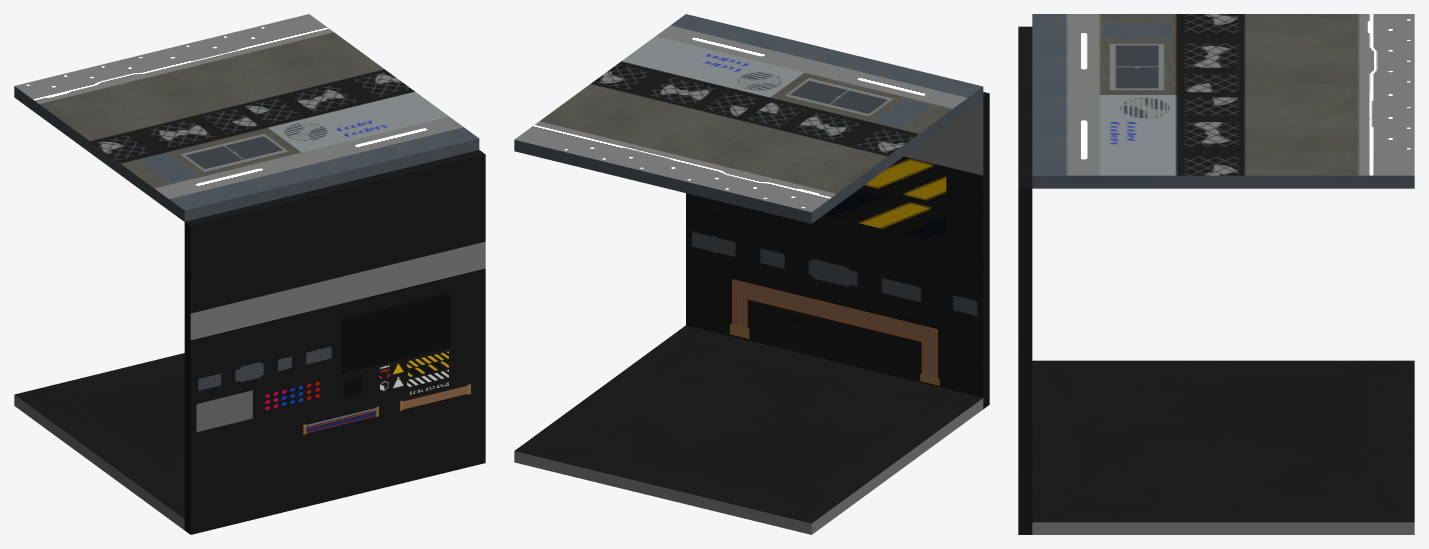
The model's file is 1 wall4.fbx.
3 views of the same model, side by side, from view 1: azimuth 30°, elevation 25°; view 2: azimuth 150°, elevation 25°; view 3: azimuth 270°, elevation 25° (orthographic). The views are drawn at different scales.
Parts seen in each view (by area): view 1: Plane.002, Plane.001, Plane; view 2: Plane.002, Plane.001, Plane; view 3: Plane, Plane.001, Plane.002.
Boxes of the visible parts, x1,y1,x2,y2 form: Plane.002: (184,150,485,534); Plane.001: (14,14,479,221); Plane: (14,353,184,529); Plane.002: (686,92,989,408); Plane.001: (514,14,983,223); Plane: (514,325,983,534); Plane: (1032,360,1414,534); Plane.001: (1032,14,1414,188); Plane.002: (1018,26,1032,534).
Size of the model in its own units: 200 by 207 by 207.
